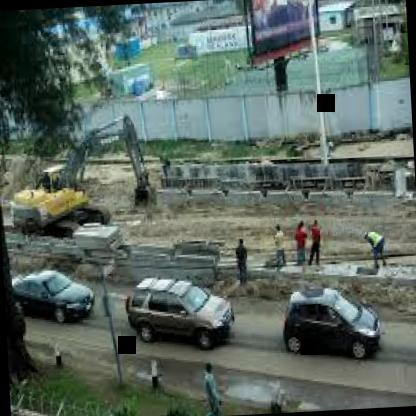car: (275, 262, 384, 372), (122, 260, 236, 358), (7, 262, 100, 350)
